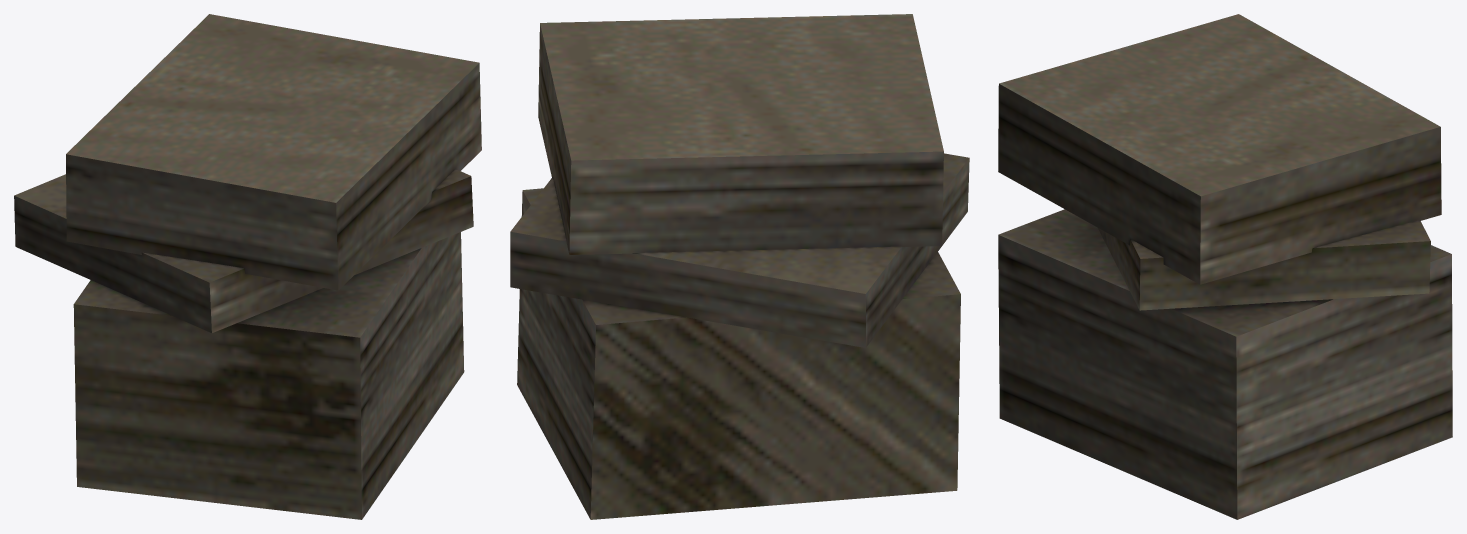
File: construction.016_construction_assets_0.001_lev3.glb
3 views of the same model, side by side, from view 1: azimuth 30°, elevation 25°; view 2: azimuth 150°, elevation 25°; view 3: azimuth 270°, elevation 25° (orthographic). The views are drawn at different scales.
Parts seen in each view (by area): view 1: construction.016_construction_assets_0.001_lev3; view 2: construction.016_construction_assets_0.001_lev3; view 3: construction.016_construction_assets_0.001_lev3.
Boxes of the visible parts, x1,y1,x2,y2 form: construction.016_construction_assets_0.001_lev3: [14, 14, 481, 519]; construction.016_construction_assets_0.001_lev3: [510, 14, 969, 519]; construction.016_construction_assets_0.001_lev3: [998, 14, 1452, 519].
Bounding box in the file's own units: 3.7 × 2.93 × 3.64.
1 material, 1 textured.
